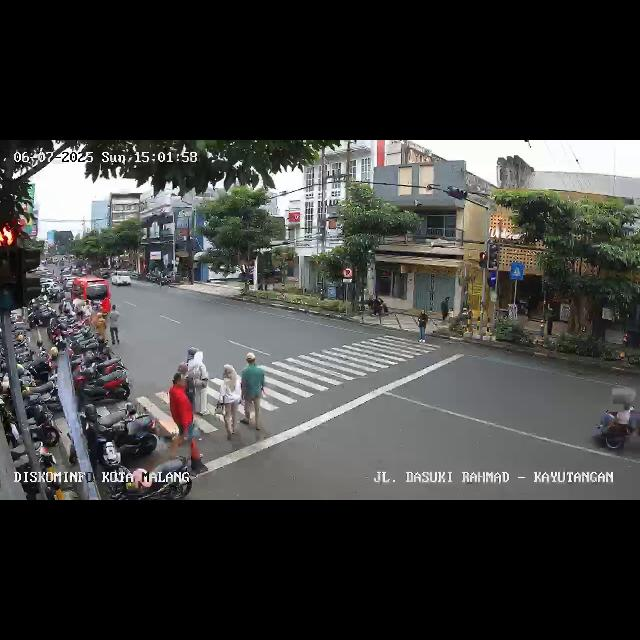car: (72, 276, 110, 310), (111, 271, 133, 287)
motorcycle: (590, 390, 640, 458)
person: (170, 375, 198, 479), (217, 362, 243, 431), (242, 354, 264, 430), (193, 350, 213, 416), (187, 346, 200, 402), (413, 306, 431, 344), (109, 303, 121, 345), (92, 312, 106, 344), (174, 361, 188, 385)
